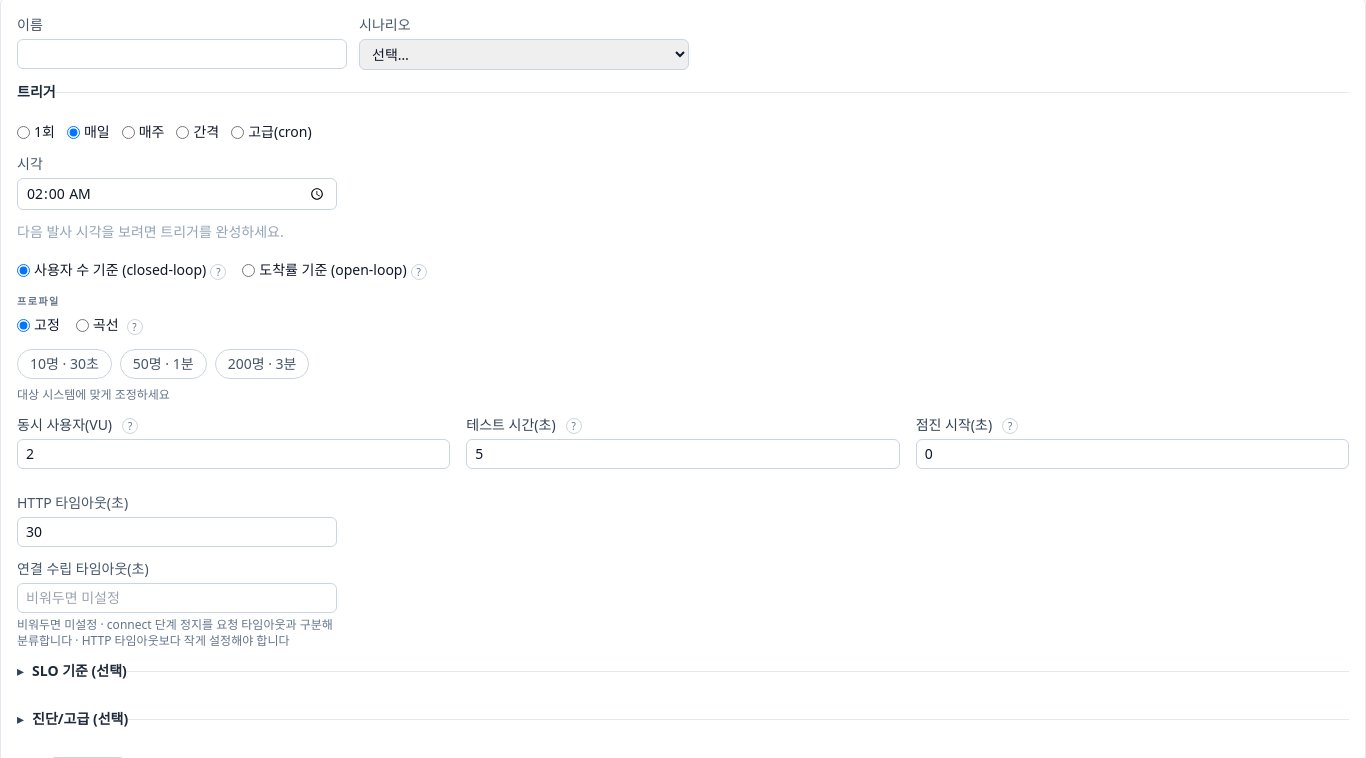
Test: ScheduleForm › 비정수 connect_timeout은 저장을 막는다
This screenshot has width=1366, height=758.
In the number field labelled "연결 수립 타임아웃(초)": (177, 598) left=17, top=583, right=337, bottom=613, type "1.5"
(page scrolled)
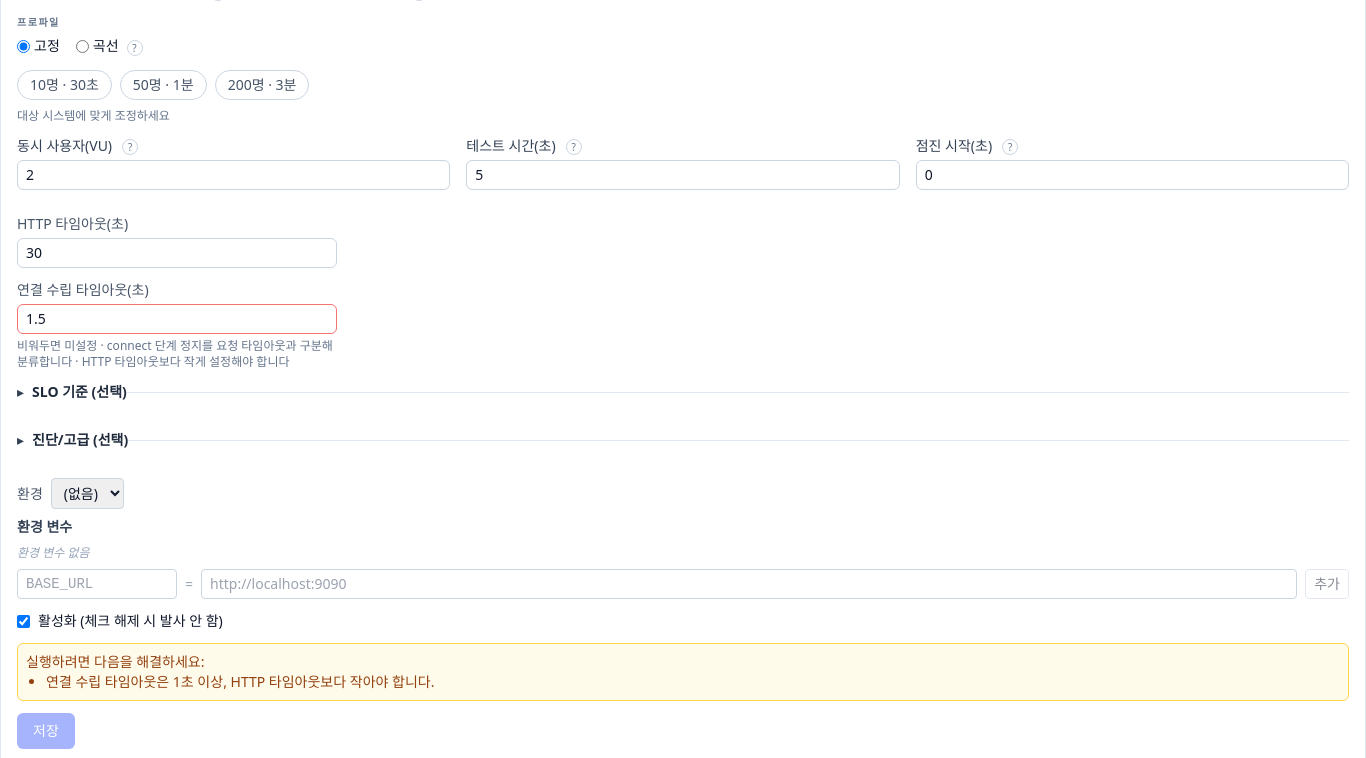
Expected: the button "저장" is disabled, left=17, top=713, right=75, bottom=749
Result: the list item "연결 수립 타임아웃은 1초 이상, HTTP 타임아웃보다 작아야 합니다." is shown at left=46, top=672, right=434, bottom=691
